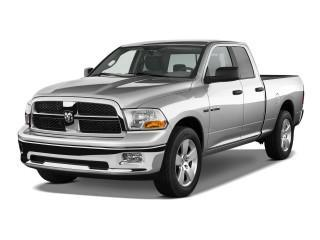ram: (60, 106, 77, 125)
